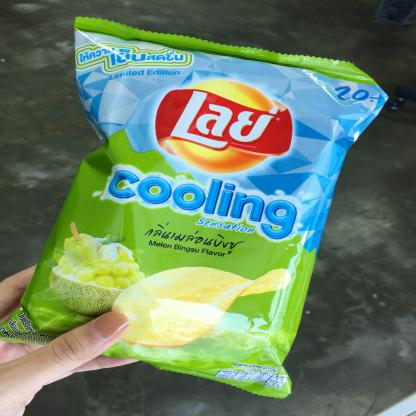potatochip: (3, 13, 388, 398)
